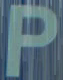Parking: (1, 0, 57, 72)
